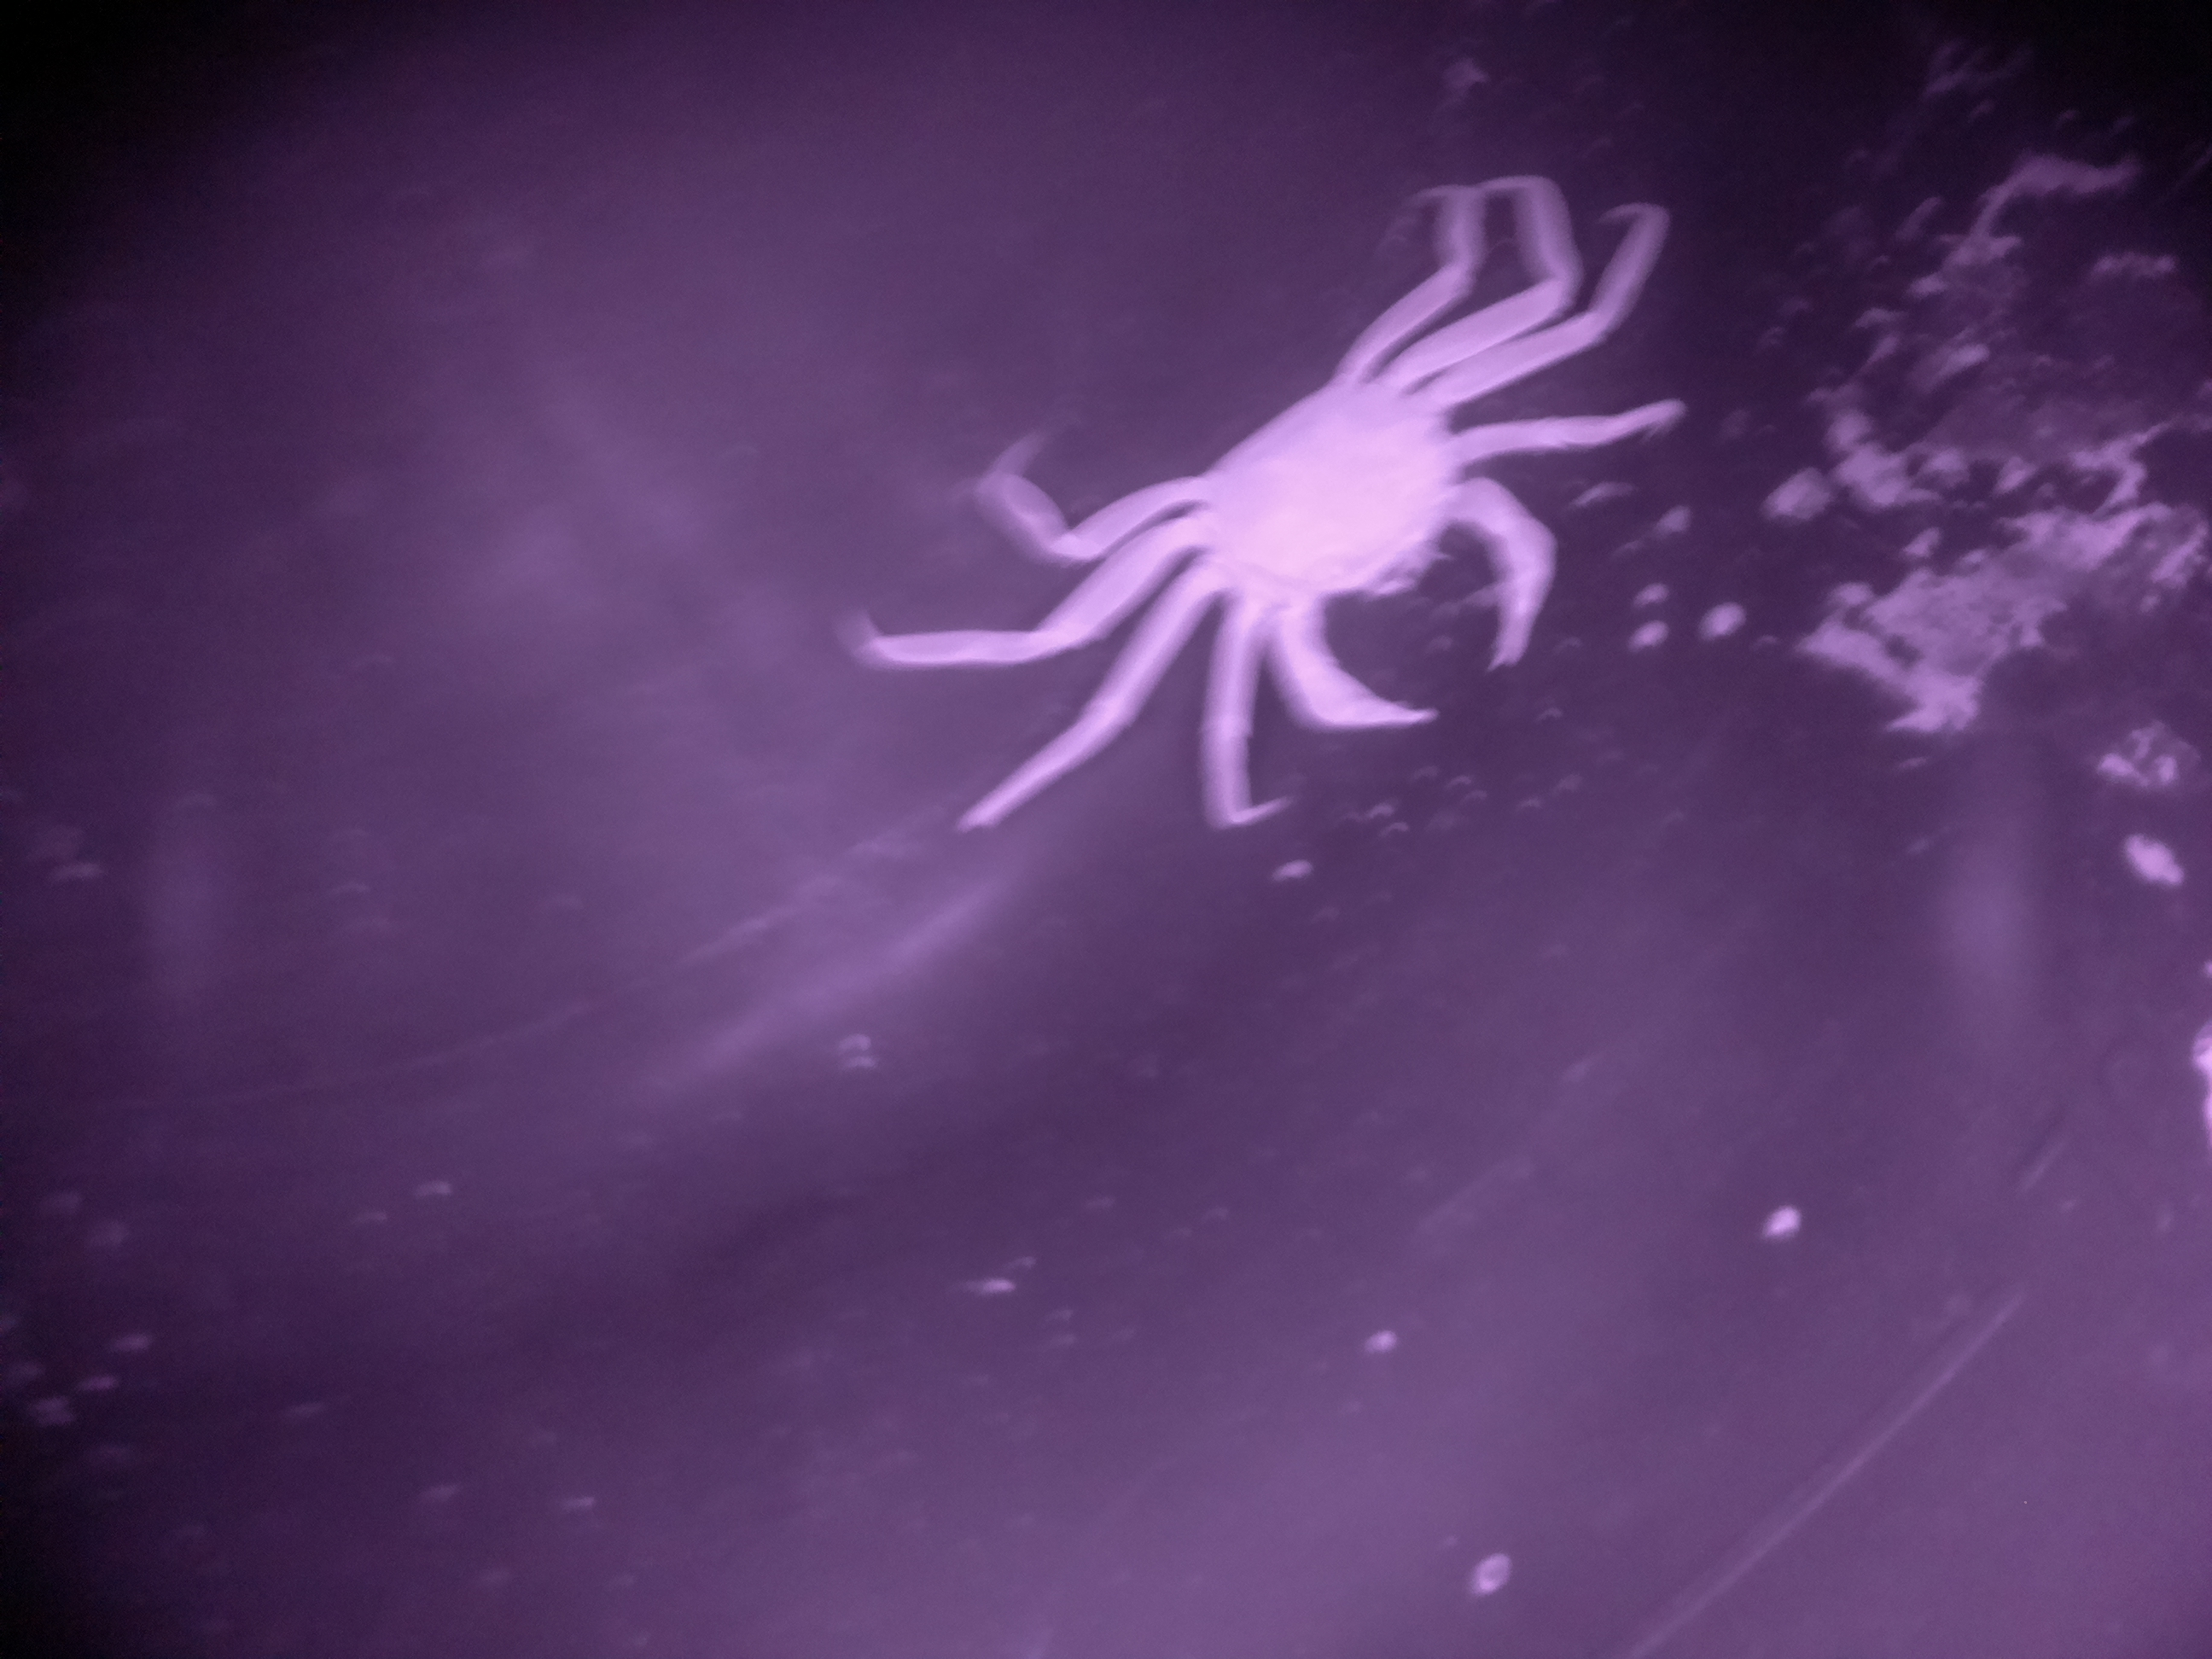Crab: (1092, 284, 1639, 786)
